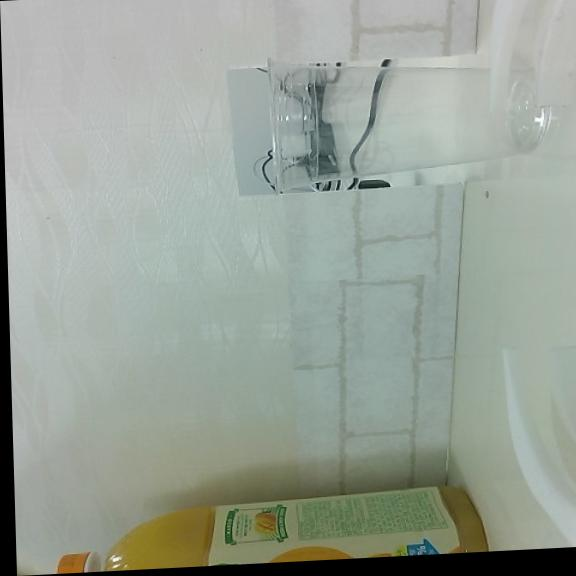Plastik: (268, 56, 552, 197)
